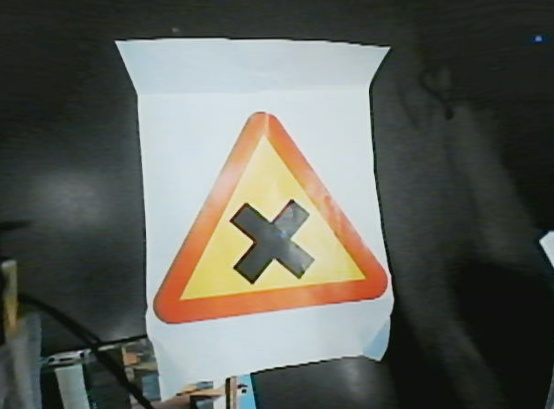junction: (129, 92, 408, 330)
